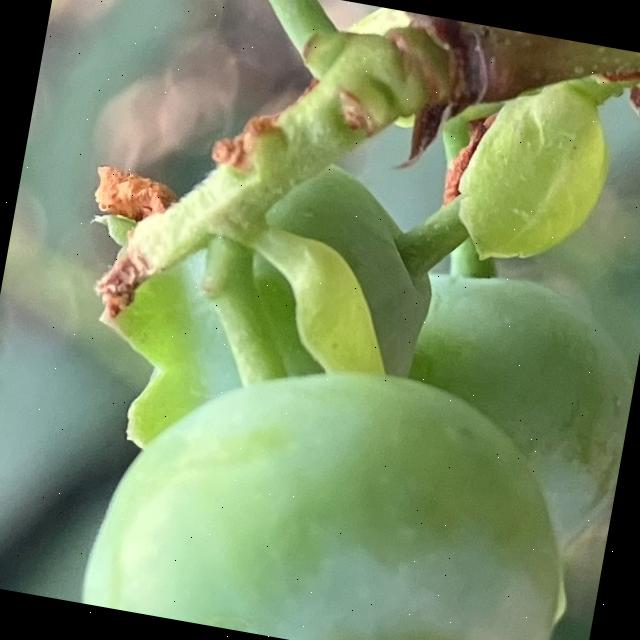Blueberries: (72, 323, 602, 640)
